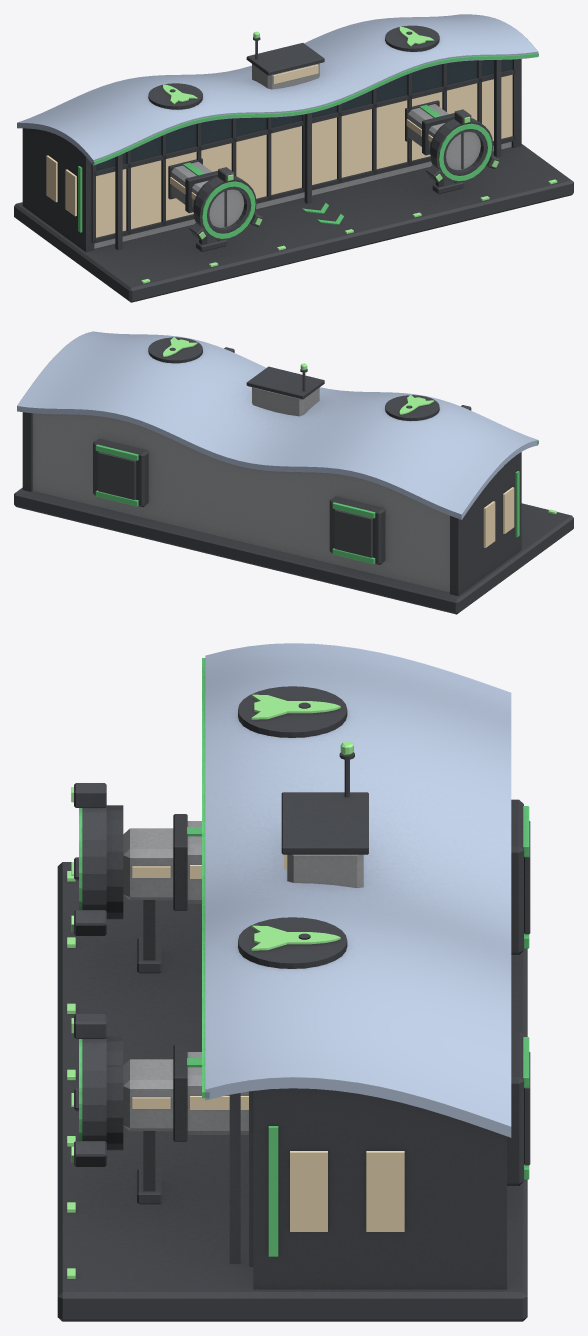
Rendered from SM_PassengerPort.fbx.
The picture shows the model from 3 angles, top to bottom: view 1: azimuth 30°, elevation 25°; view 2: azimuth 150°, elevation 25°; view 3: azimuth 270°, elevation 25°; orthographic projection. The views are drawn at different scales.
Parts seen in each view (by area): view 1: SMN_PassengerPort, PassengerPortWindows, Emblem_PassengerShip; view 2: SMN_PassengerPort, PassengerPortWindows, Emblem_PassengerShip; view 3: SMN_PassengerPort, PassengerPortWindows, Emblem_PassengerShip.
Part boxes in pixels (x1,y1,x2,y2): SMN_PassengerPort: (14,14,573,302); PassengerPortWindows: (46,64,512,237); Emblem_PassengerShip: (141,26,557,283); SMN_PassengerPort: (14,331,573,614); PassengerPortWindows: (483,487,514,547); Emblem_PassengerShip: (163,337,557,514); SMN_PassengerPort: (57,643,530,1321); PassengerPortWindows: (132,854,404,1231); Emblem_PassengerShip: (67,694,353,1278).
Bounding box in the file's own units: 1.88 × 0.687 × 0.865.
